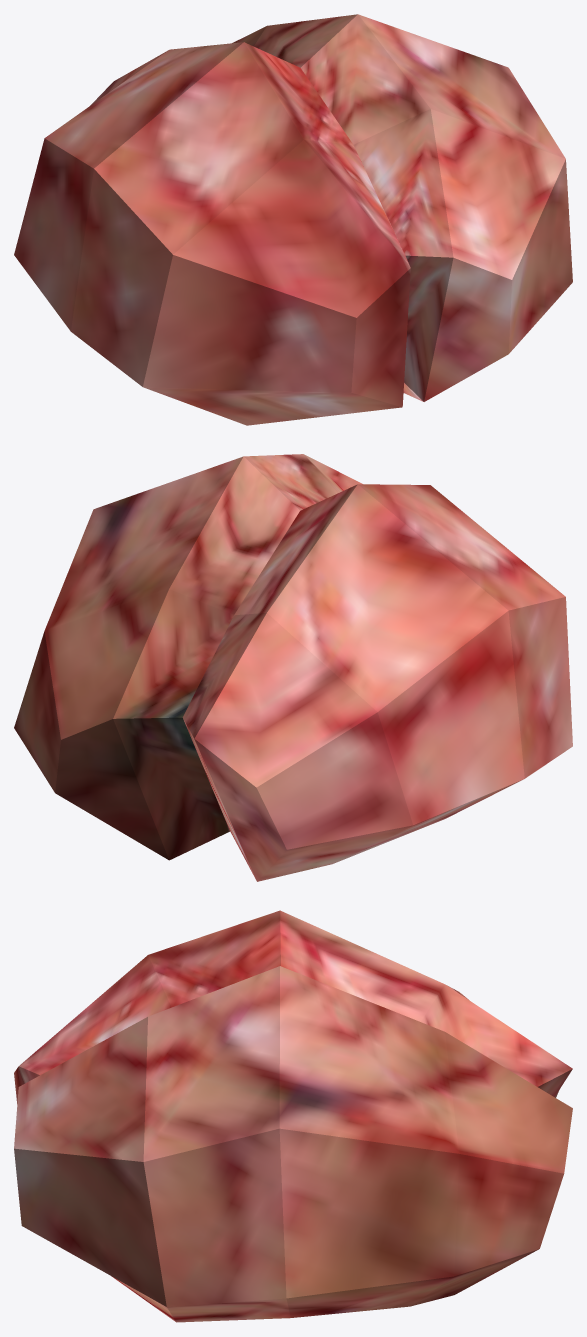
The model's file is Brain.glb.
3 views of the same model, one above another, from view 1: azimuth 30°, elevation 25°; view 2: azimuth 150°, elevation 25°; view 3: azimuth 270°, elevation 25° (orthographic).
Parts seen in each view (by area): view 1: Cube; view 2: Cube; view 3: Cube.
Boxes of the visible parts, <box> form: Cube: <box>14,14,572,425</box>; Cube: <box>14,454,572,881</box>; Cube: <box>14,910,572,1322</box>.
Size of the model in its own units: 1.07 by 0.7608 by 1.15.
Materials: 1 (1 with a texture image).
